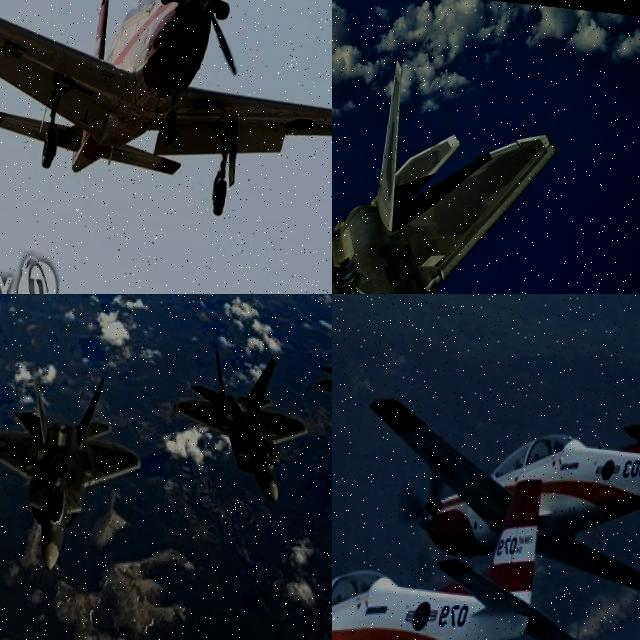F22: (332, 37, 562, 294), (0, 368, 154, 577), (168, 342, 312, 512), (302, 325, 332, 475)
KT-1: (0, 0, 332, 231), (356, 327, 640, 585), (332, 440, 616, 640)
